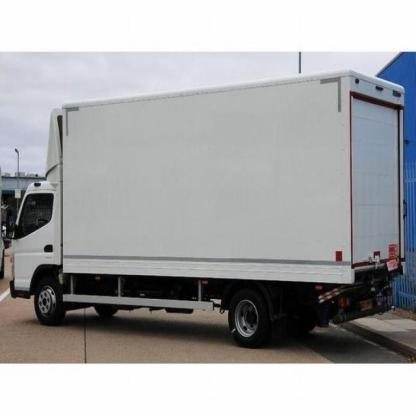truck: (11, 69, 408, 344)
